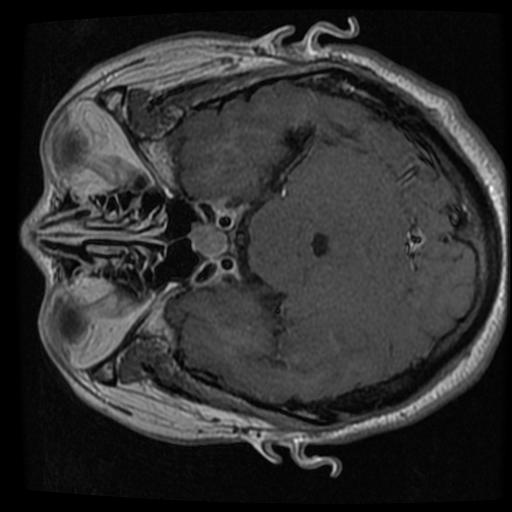pituitary tumour: (190, 224, 229, 259)
